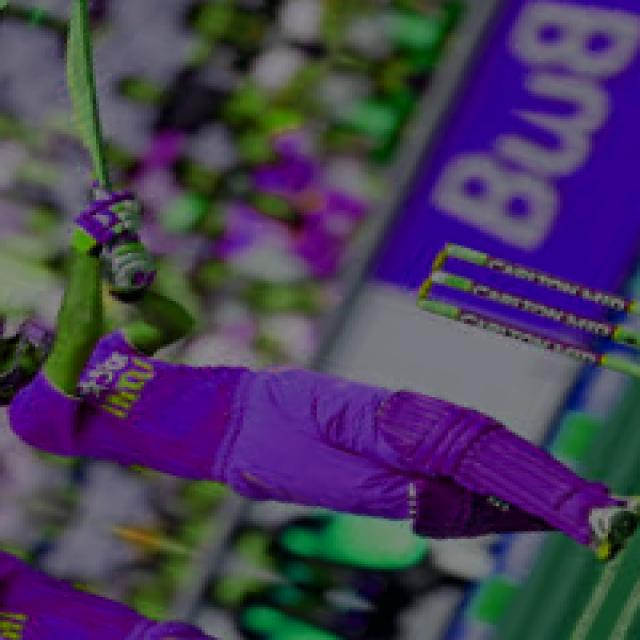toe: (61, 0, 86, 18)
